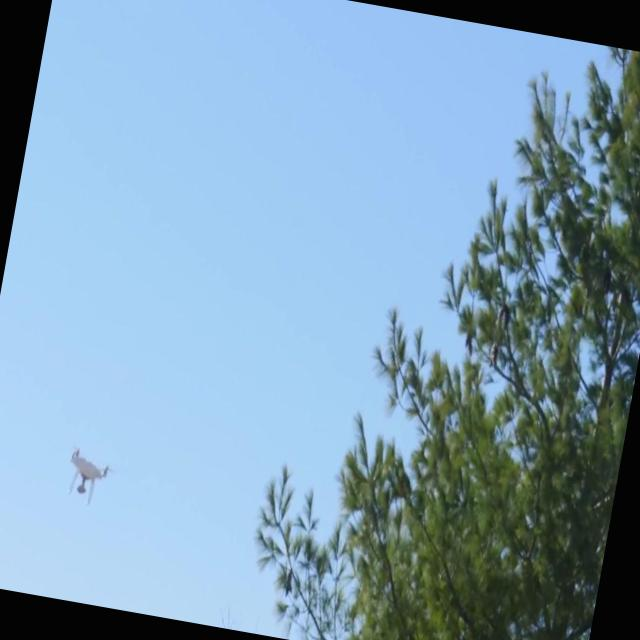drone: (59, 438, 117, 509)
